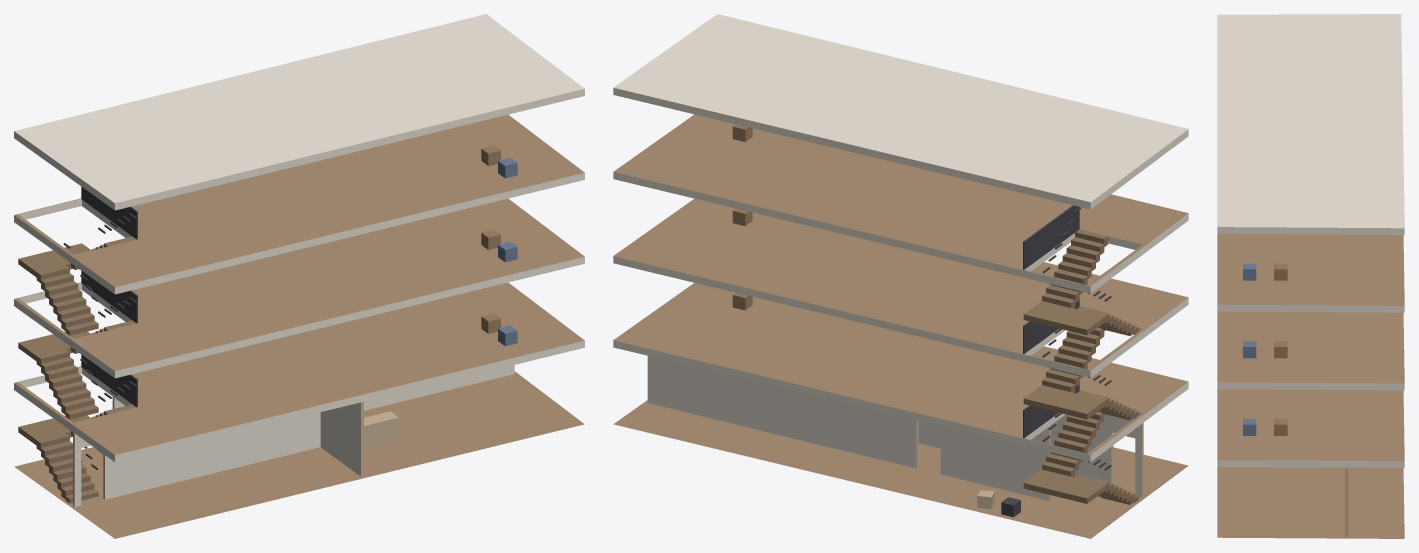
File: interior.glb
3 renders of one model, left to right at view 1: azimuth 30°, elevation 25°; view 2: azimuth 150°, elevation 25°; view 3: azimuth 270°, elevation 25°, orthographic. The views are drawn at different scales.
Parts seen in each view (by area): view 1: slabs, stair, partitions, coarse-s0, coarse-s1, coarse-s2, coarse-s3; view 2: slabs, partitions, stair; view 3: slabs, coarse-s2, coarse-s3, coarse-s1, partitions.
Part boxes in pixels (left/top/right/bottom): slabs: left=14, top=14, right=584, bottom=538; stair: left=18, top=186, right=137, bottom=503; partitions: left=73, top=365, right=514, bottom=506; coarse-s0: left=98, top=411, right=398, bottom=453; coarse-s1: left=481, top=313, right=517, bottom=346; coarse-s2: left=481, top=229, right=517, bottom=262; coarse-s3: left=481, top=145, right=517, bottom=178; slabs: left=613, top=14, right=1188, bottom=538; partitions: left=647, top=356, right=1143, bottom=500; stair: left=1023, top=205, right=1138, bottom=504; slabs: left=1217, top=14, right=1404, bottom=538; coarse-s2: left=1243, top=341, right=1287, bottom=358; coarse-s3: left=1243, top=263, right=1287, bottom=280; coarse-s1: left=1243, top=419, right=1287, bottom=435; partitions: left=1345, top=467, right=1348, bottom=537.
Size of the model in its own units: 17.94 by 12.15 by 6.63.
